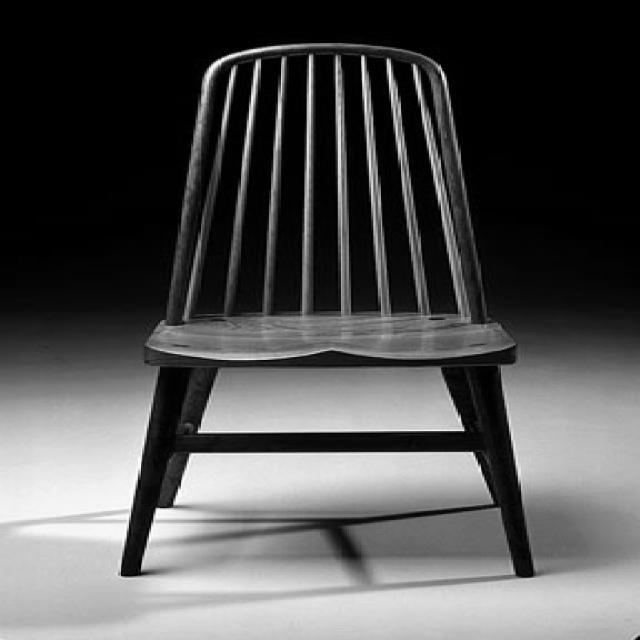chair: (114, 40, 540, 580)
